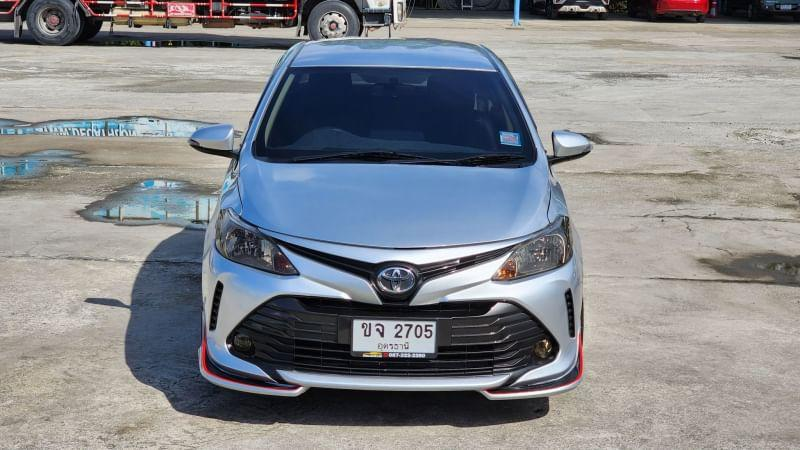license-plate: (347, 312, 439, 367)
